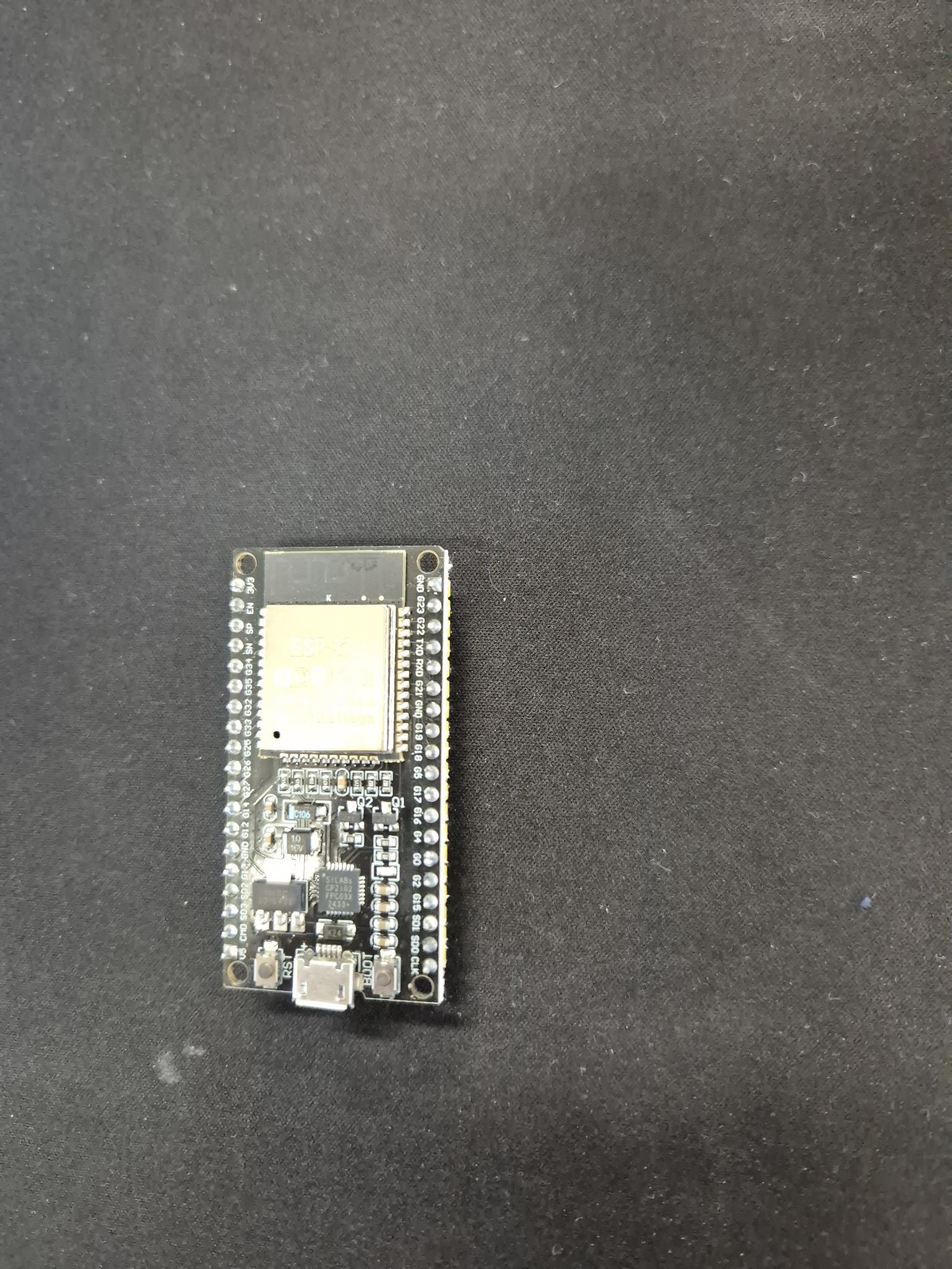esp32-dev: (222, 546, 450, 1010)
